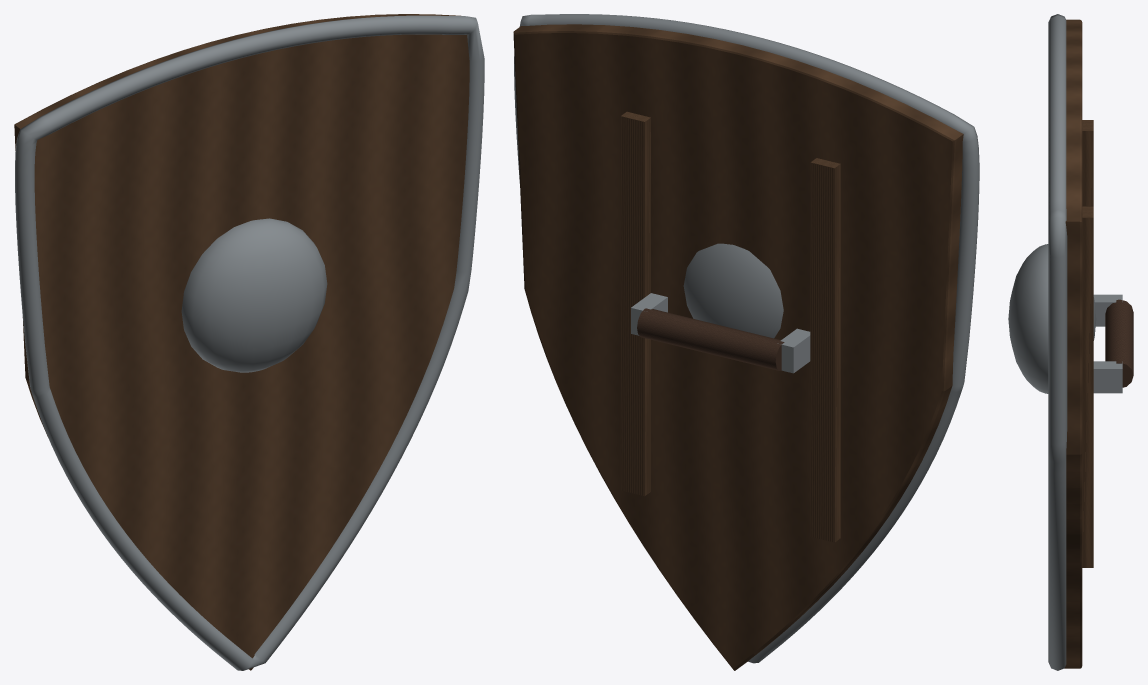
The model's file is corealm_shield_2.glb.
3 renders of one model, left to right at view 1: azimuth 30°, elevation 25°; view 2: azimuth 150°, elevation 25°; view 3: azimuth 270°, elevation 25°, orthographic. The views are drawn at different scales.
Parts seen in each view (by area): view 1: corealm-weapon-wood, corealm-weapon-metal; view 2: corealm-weapon-wood, corealm-weapon-metal, corealm-weapon-leather; view 3: corealm-weapon-metal, corealm-weapon-wood, corealm-weapon-leather.
Part boxes in pixels (bbox=[...]): corealm-weapon-wood: bbox=[14, 14, 469, 670]; corealm-weapon-metal: bbox=[15, 15, 484, 670]; corealm-weapon-wood: bbox=[513, 24, 963, 670]; corealm-weapon-metal: bbox=[514, 14, 979, 663]; corealm-weapon-leather: bbox=[637, 308, 784, 370]; corealm-weapon-metal: bbox=[1008, 14, 1122, 670]; corealm-weapon-wood: bbox=[1064, 19, 1093, 668]; corealm-weapon-leather: bbox=[1105, 299, 1133, 387].
Bounding box in the file's own units: 0.6348 × 0.8212 × 0.1587.
Materials: 3 (2 with a texture image).
